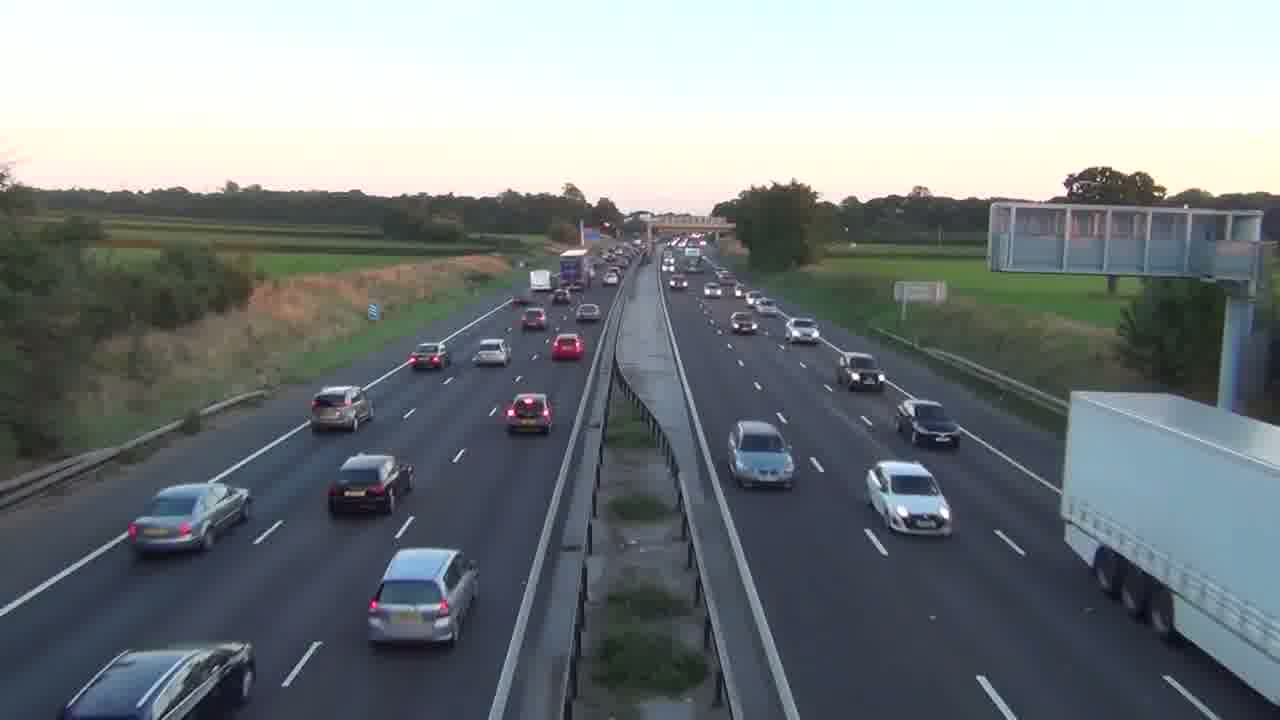car: (58, 640, 257, 718), (367, 546, 480, 648), (126, 480, 251, 558), (864, 459, 954, 537), (326, 452, 414, 516), (727, 419, 798, 490), (893, 398, 962, 451), (309, 384, 374, 433), (504, 391, 555, 436), (833, 351, 885, 393), (409, 341, 451, 371), (473, 337, 509, 367), (784, 317, 822, 344), (550, 332, 585, 361), (520, 306, 547, 332), (574, 301, 602, 323)
truck: (833, 351, 885, 393)
